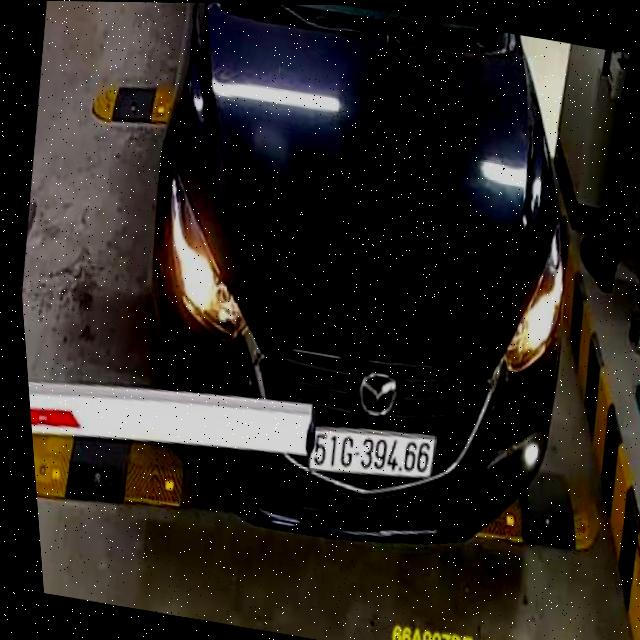car: (84, 1, 628, 577)
plate: (296, 413, 445, 495)
